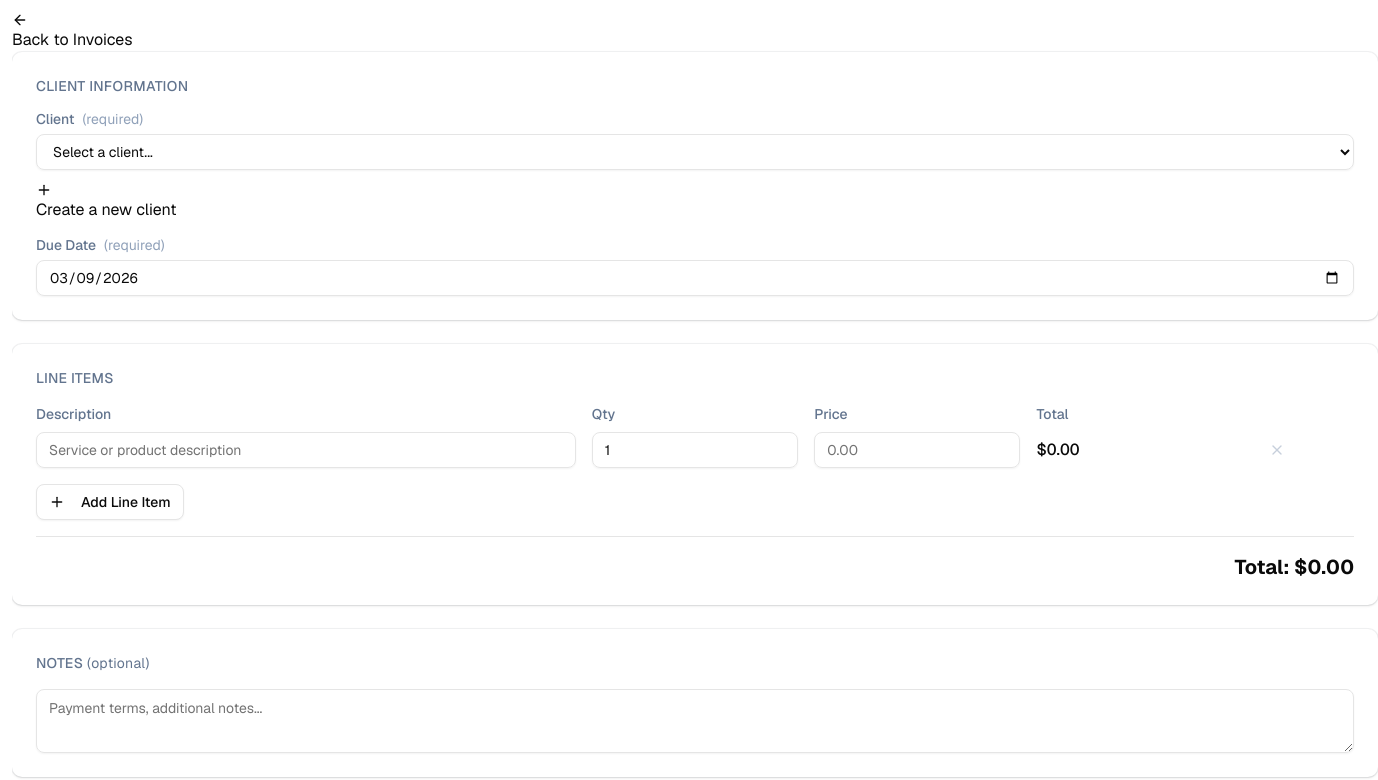
Test: InvoiceForm › client selector integration › shows client details after selection
The image size is (1378, 780).
Select "Acme Corp (acme@example.com)" in the dropdown at [695, 152], box 36,134 -> 1354,170
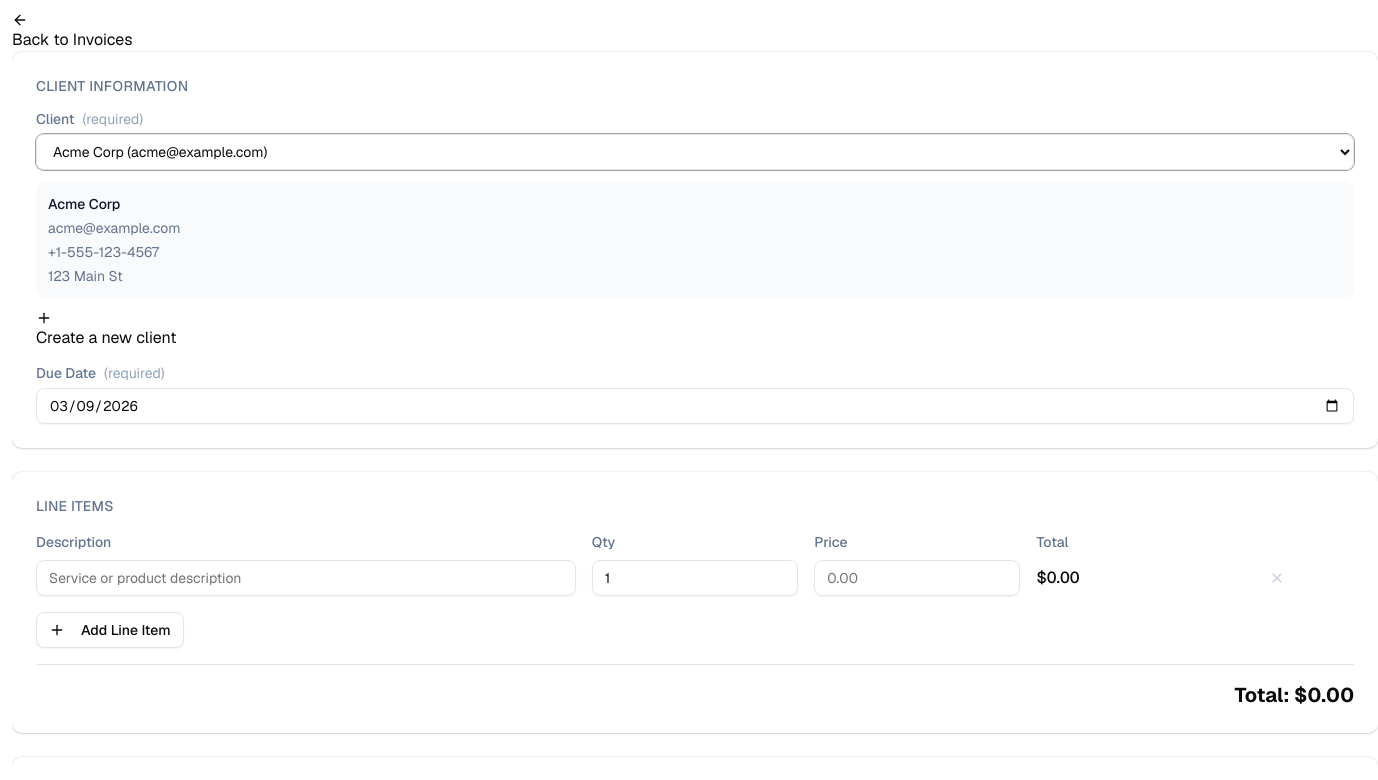
Check: the text "Acme Corp" is shown, box 48,195 -> 120,213
Check: the text "acme@example.com" is shown, box 48,219 -> 180,237
